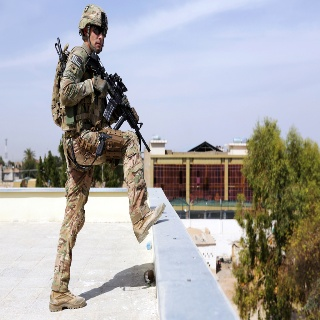rifle: (83, 56, 152, 152)
